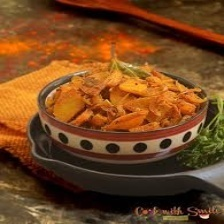sabzi: (41, 61, 203, 132)
